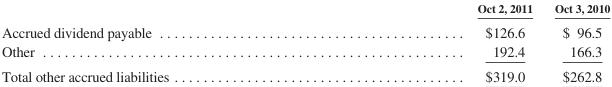table: (1, 1, 609, 84)
table column: (1, 1, 322, 84), (322, 1, 543, 84), (543, 1, 609, 84)
table column header: (1, 1, 609, 19)
table row: (1, 19, 609, 41), (1, 41, 609, 63), (1, 63, 609, 84), (1, 1, 609, 19)
